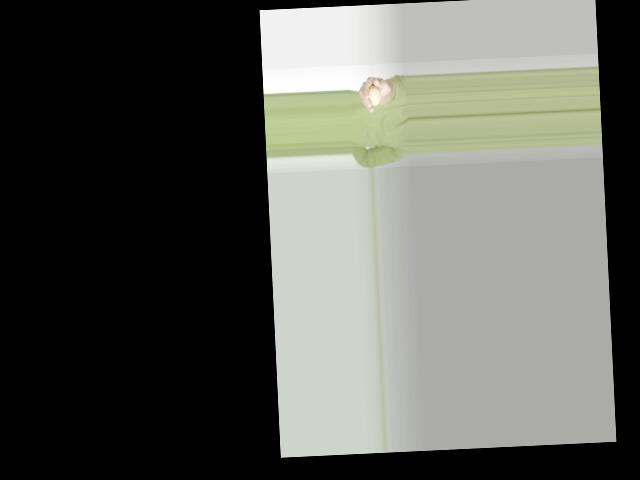egg: (367, 85, 381, 106)
